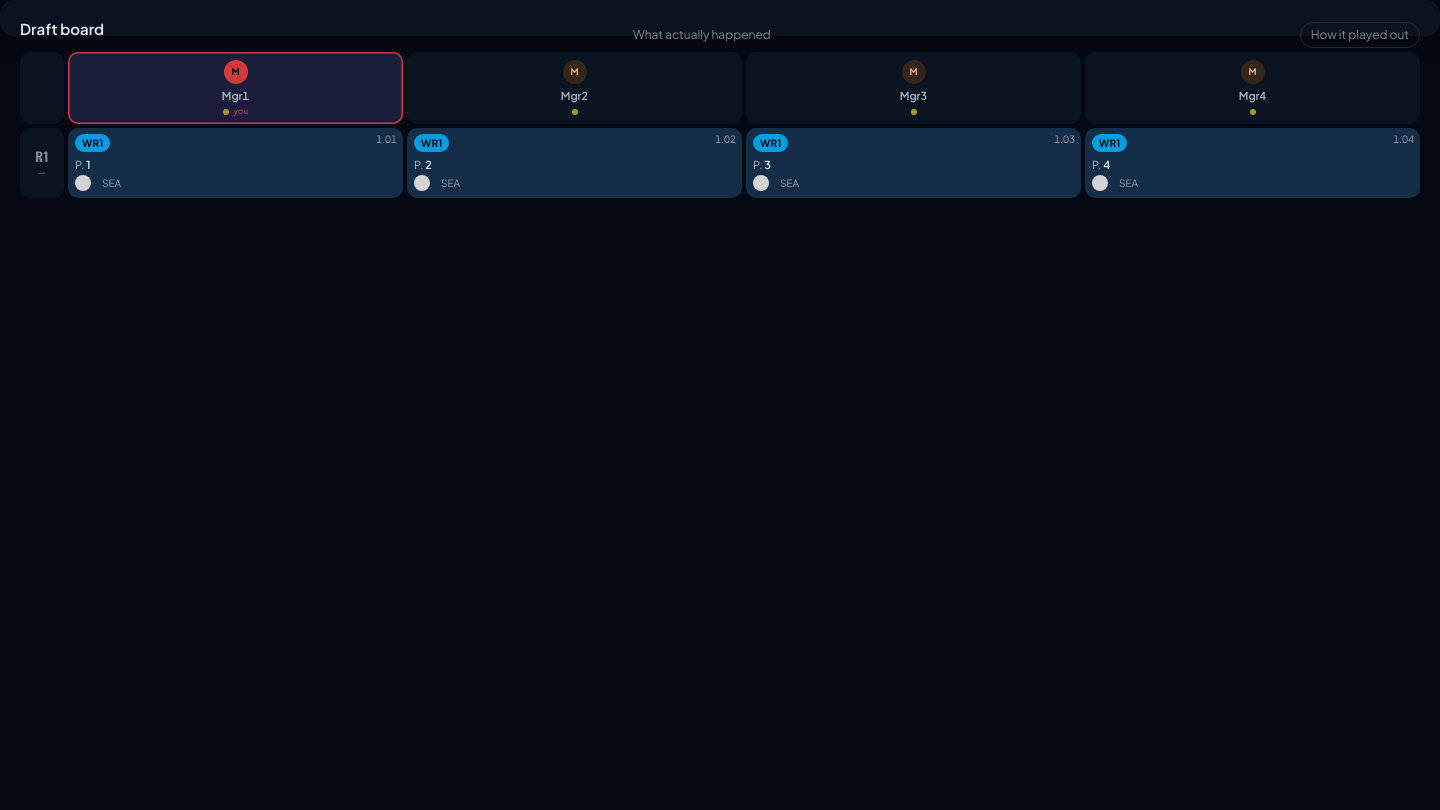
Test: CompletedDraftBoard steals & busts panel › football caption names the position
Click the button "How it played out". click: [1360, 35]
box: [1300,22,1420,48]
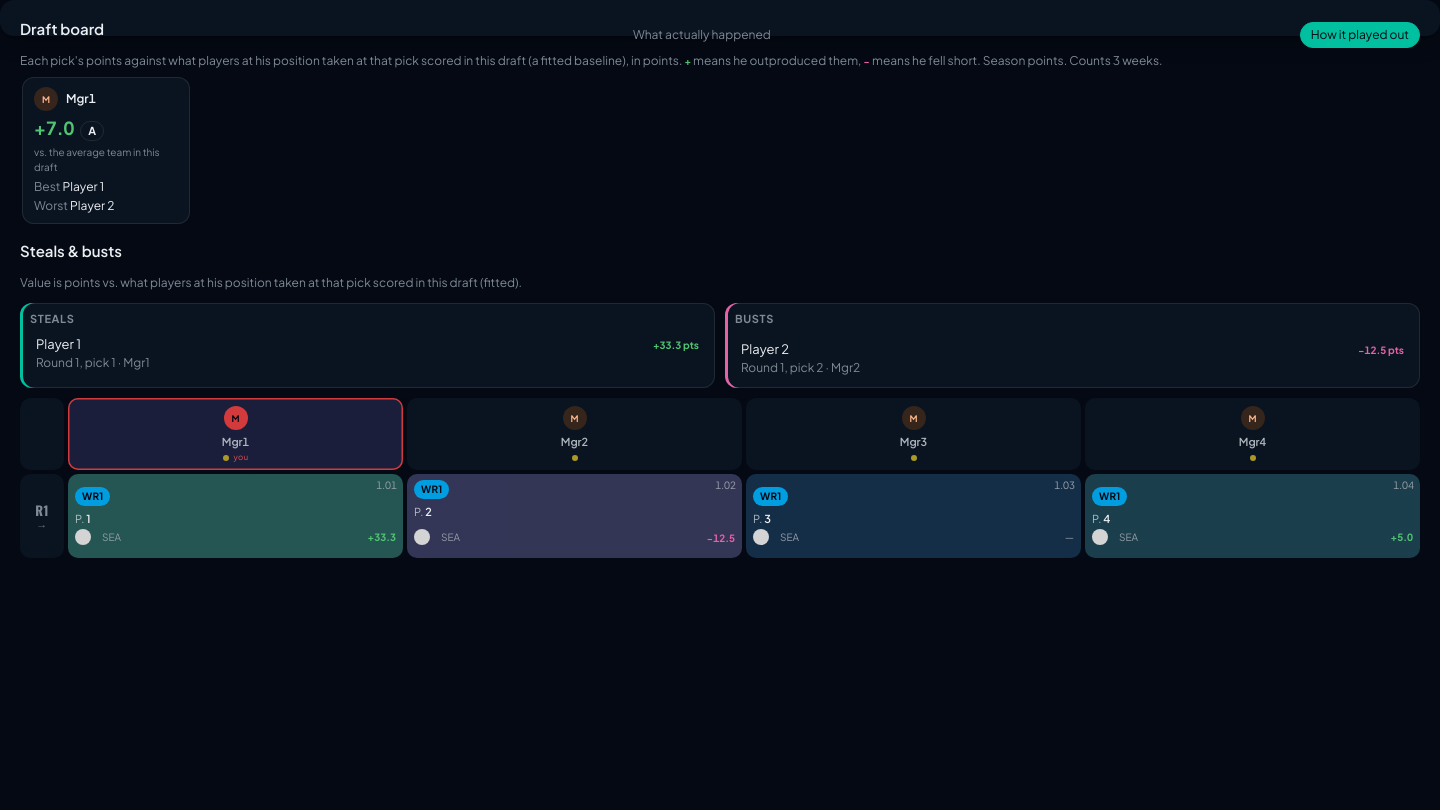
Expected: the heading "Steals & busts" is shown, [20,241,122,260]
Expected: the text "what players at his position taken at that pick scored in this draft (fitted)" is shown, [20,275,522,290]
